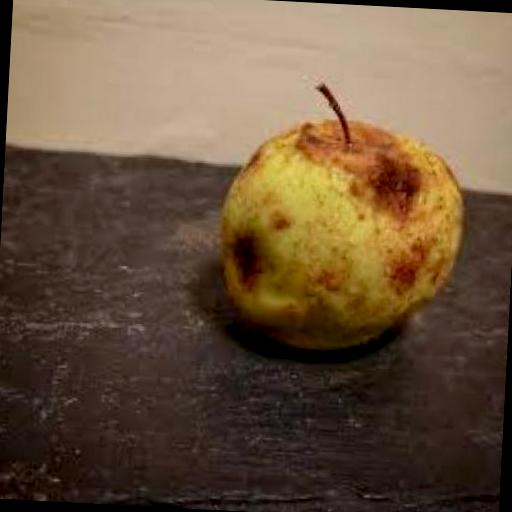biodegradable: (214, 80, 468, 357)
